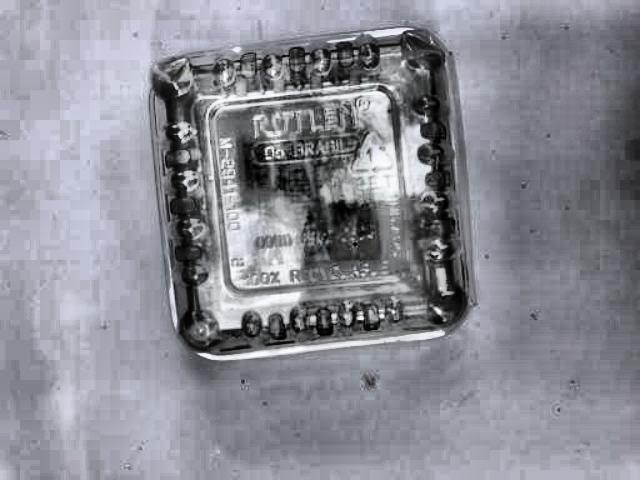Plastic: (138, 18, 484, 355)
